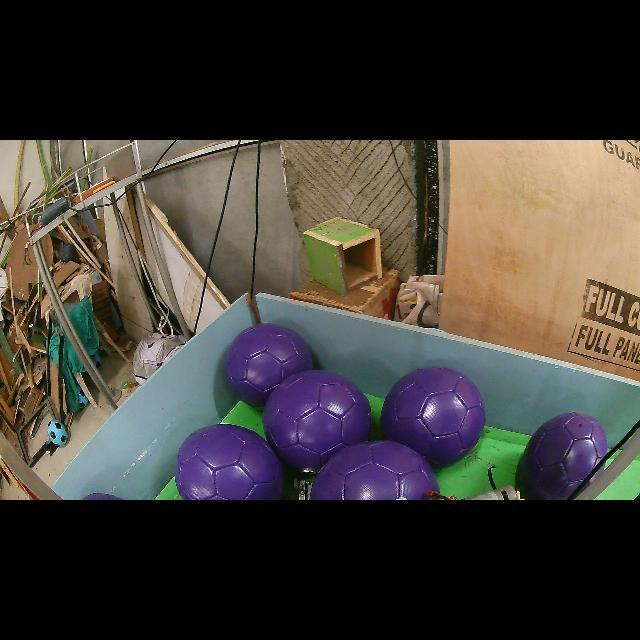P: (262, 370, 371, 474), (381, 366, 485, 465), (175, 424, 284, 500), (516, 412, 608, 500), (310, 441, 439, 500), (225, 322, 312, 406)
